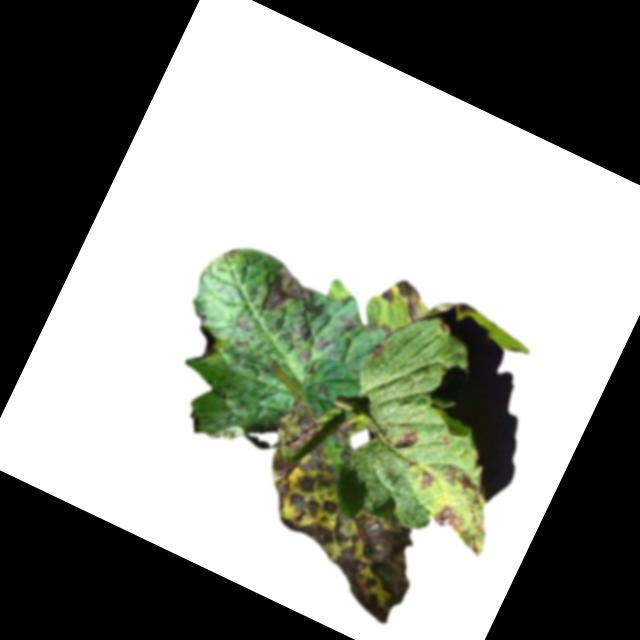Early_blight: (224, 400, 461, 627), (254, 260, 335, 340), (375, 273, 434, 327), (439, 459, 491, 502), (186, 321, 225, 367), (430, 500, 466, 533), (393, 424, 422, 454), (367, 338, 389, 362), (314, 332, 333, 353), (417, 470, 435, 491), (296, 347, 313, 366)
